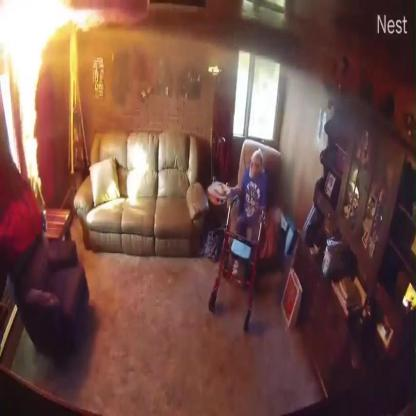fire: (13, 1, 42, 194), (1, 2, 105, 40)
